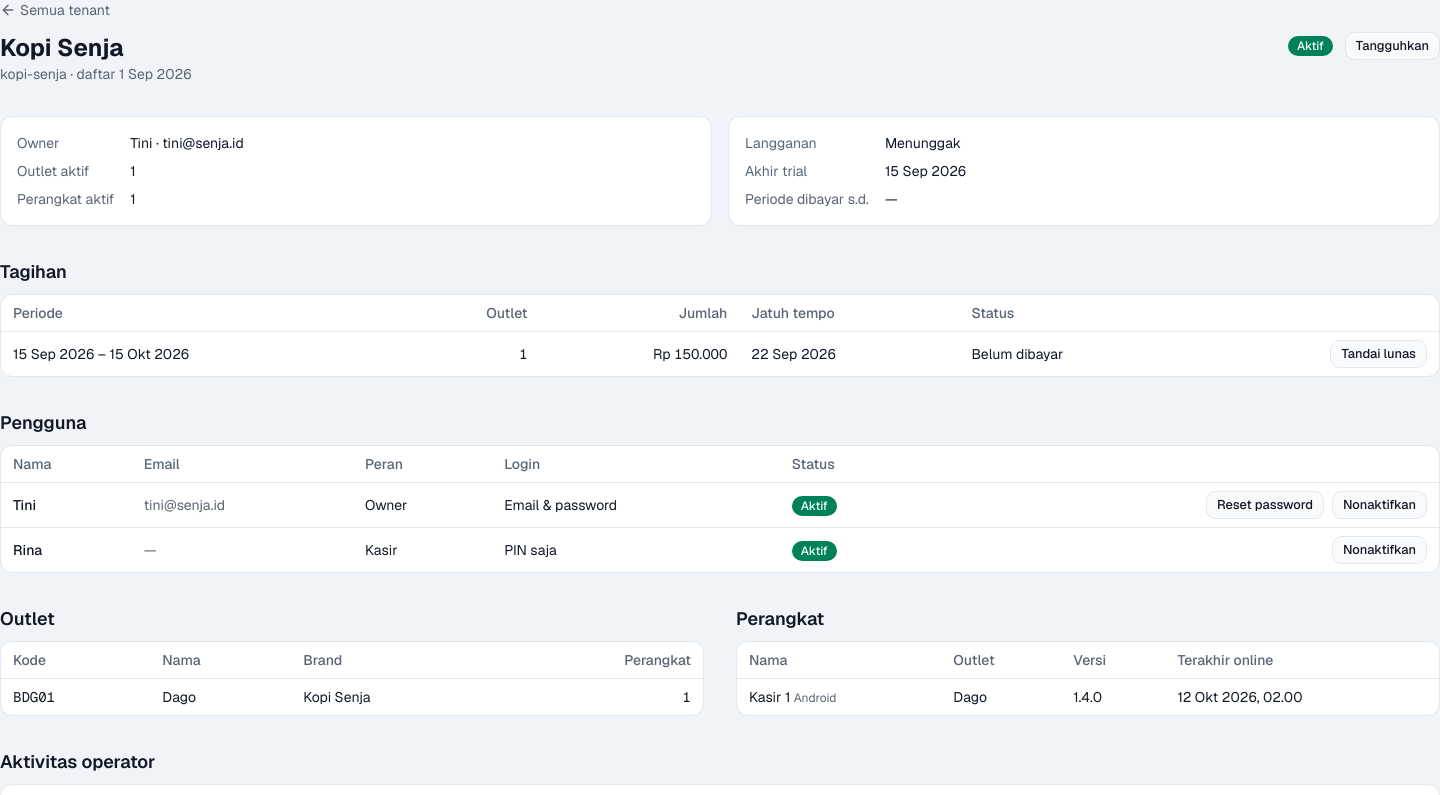
Scenario: TenantDetailScreen › explains why the last owner stays active
This screenshot has width=1440, height=795.
Click the button with aria-label "Nonaktifkan Tini".
click(1380, 505)  # box [1332,491,1427,519]
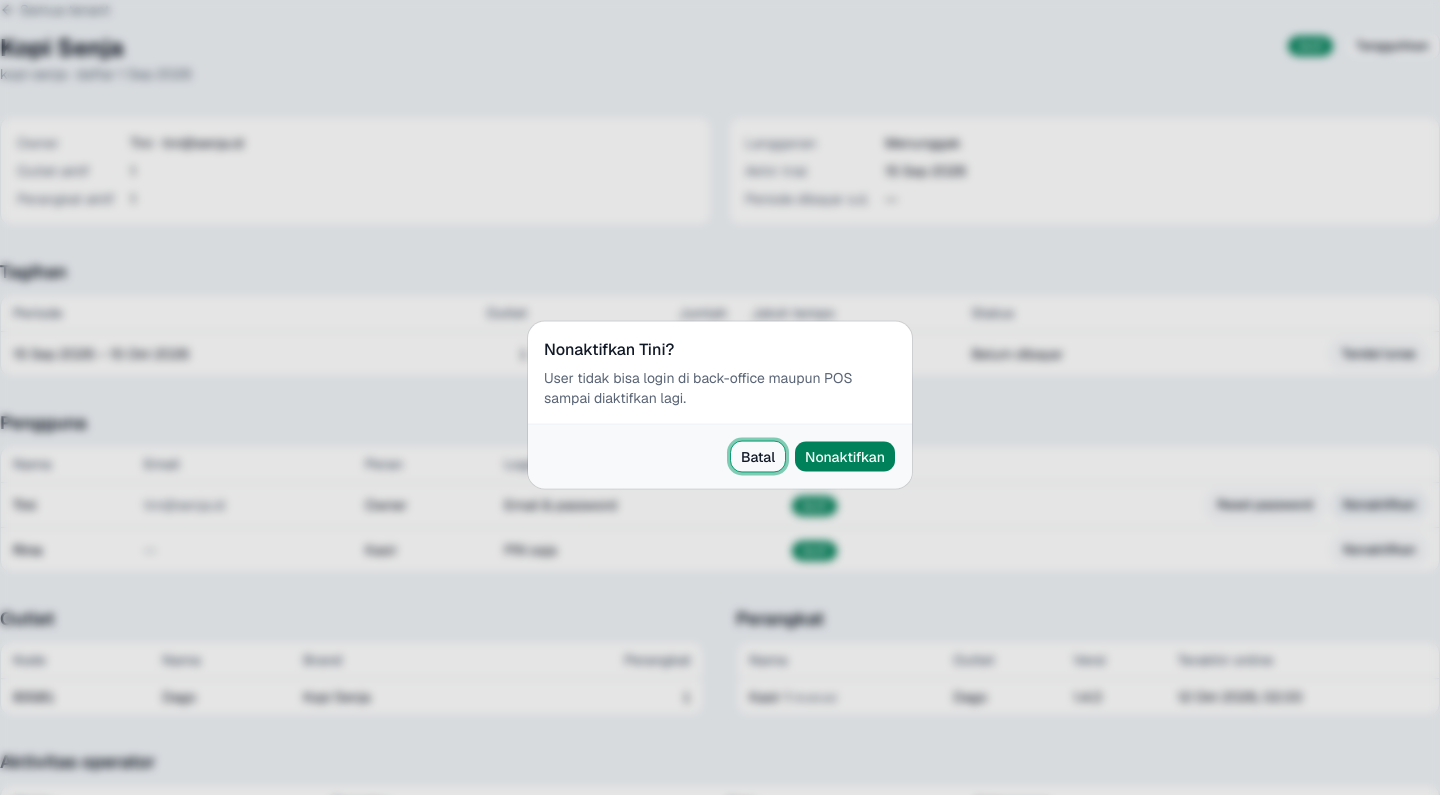
Click the button "Nonaktifkan".
click(845, 456)  # box [794,440,896,472]
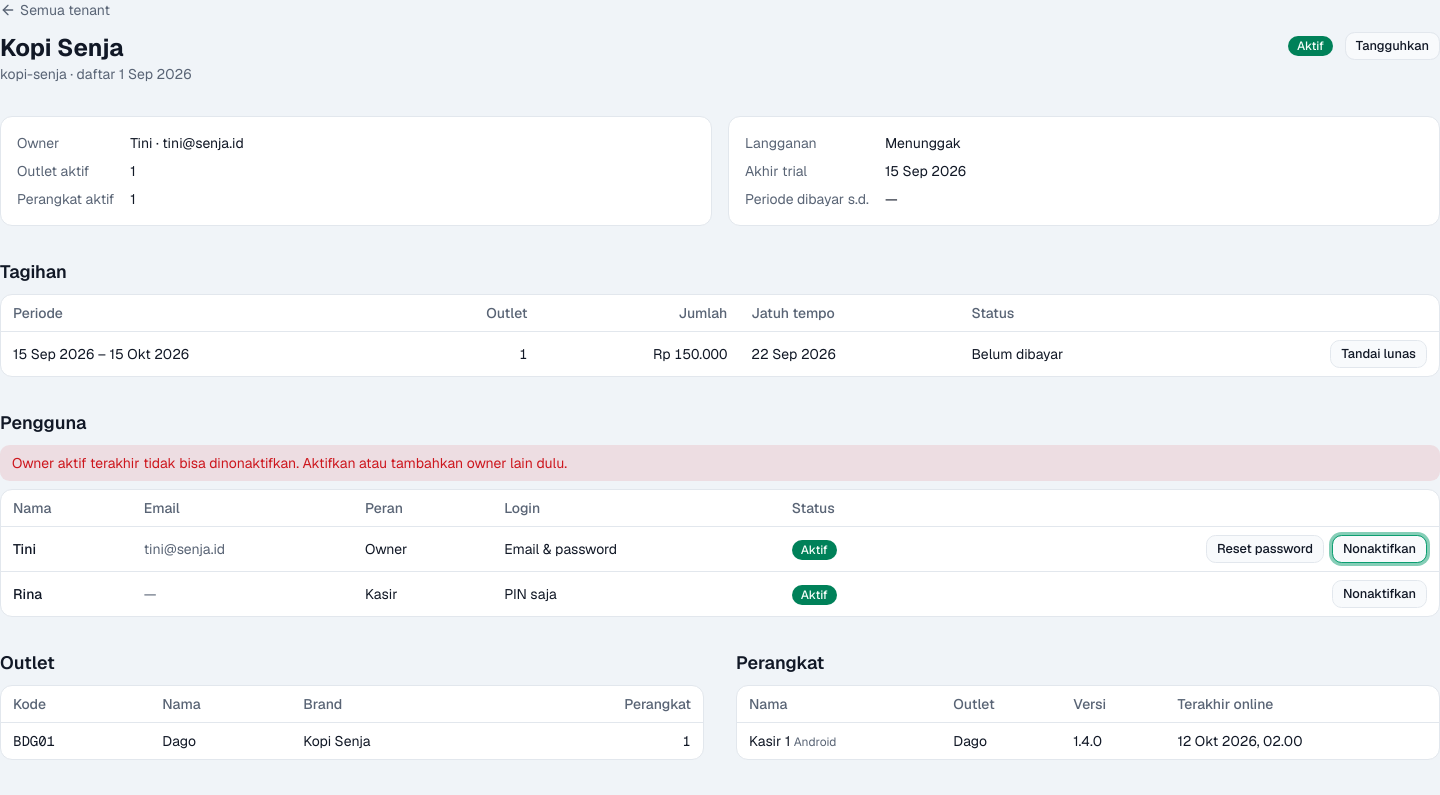
Result: the message shows "Owner aktif terakhir tidak bisa dinonaktifkan" at [12,454,567,472]
